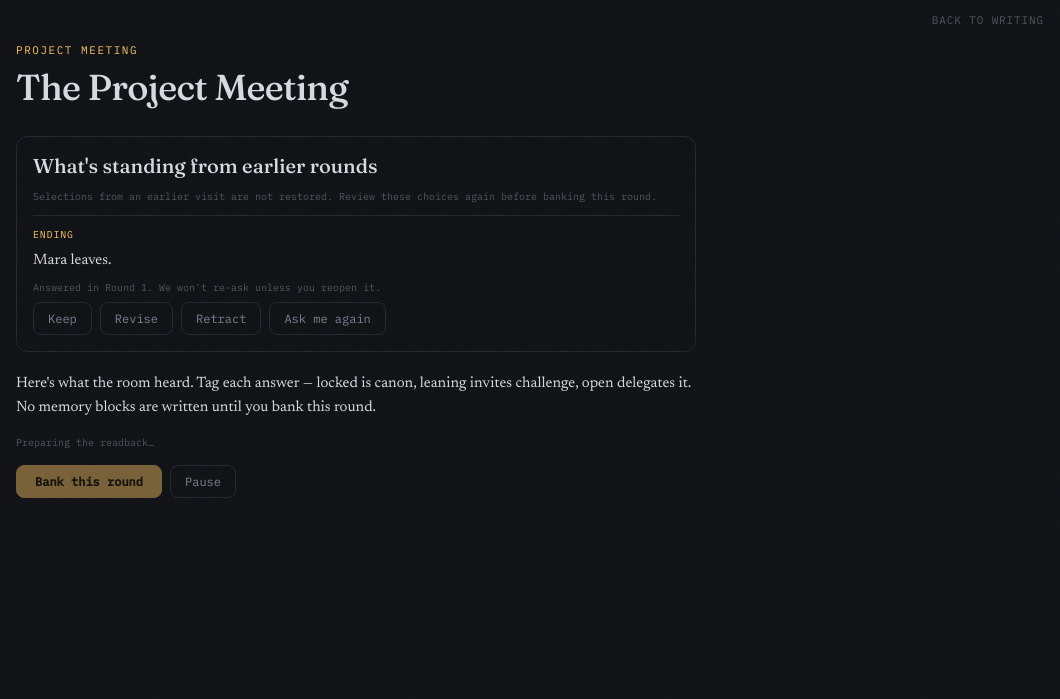
Scenario: ProjectMeetingPage › warns that retract changes direction but preserves the immutable round record
Click the button "Retract": (221,319) [181,302,261,335]
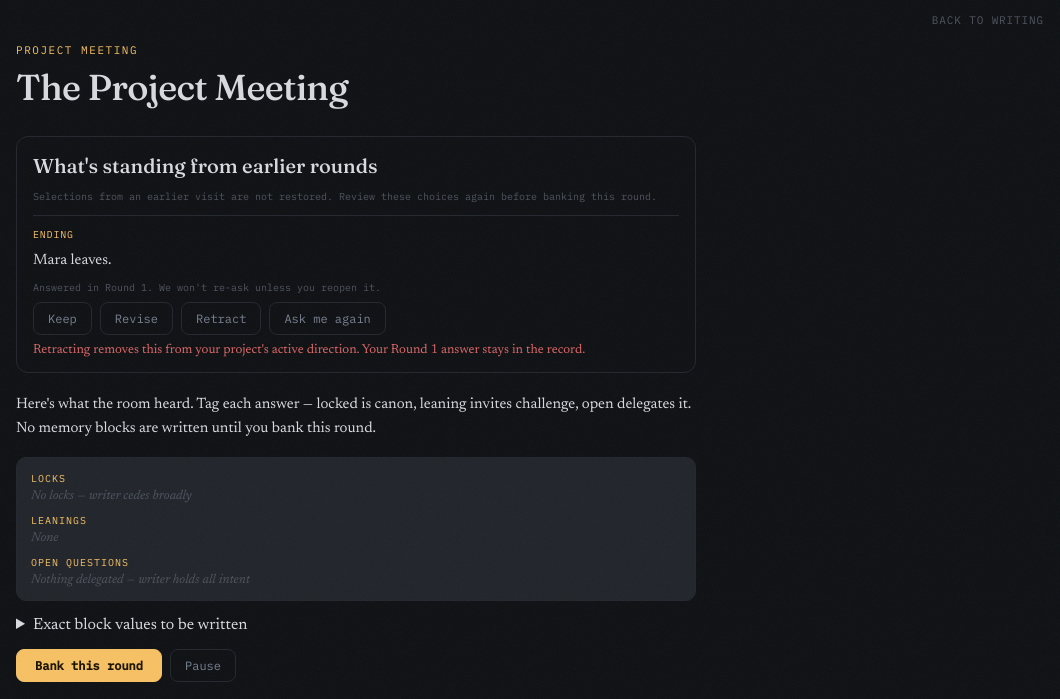
Now the text "Retracting removes this from your project's active direction. Your Round 1 answer stays in the record." is shown, box [33,343,679,356]
